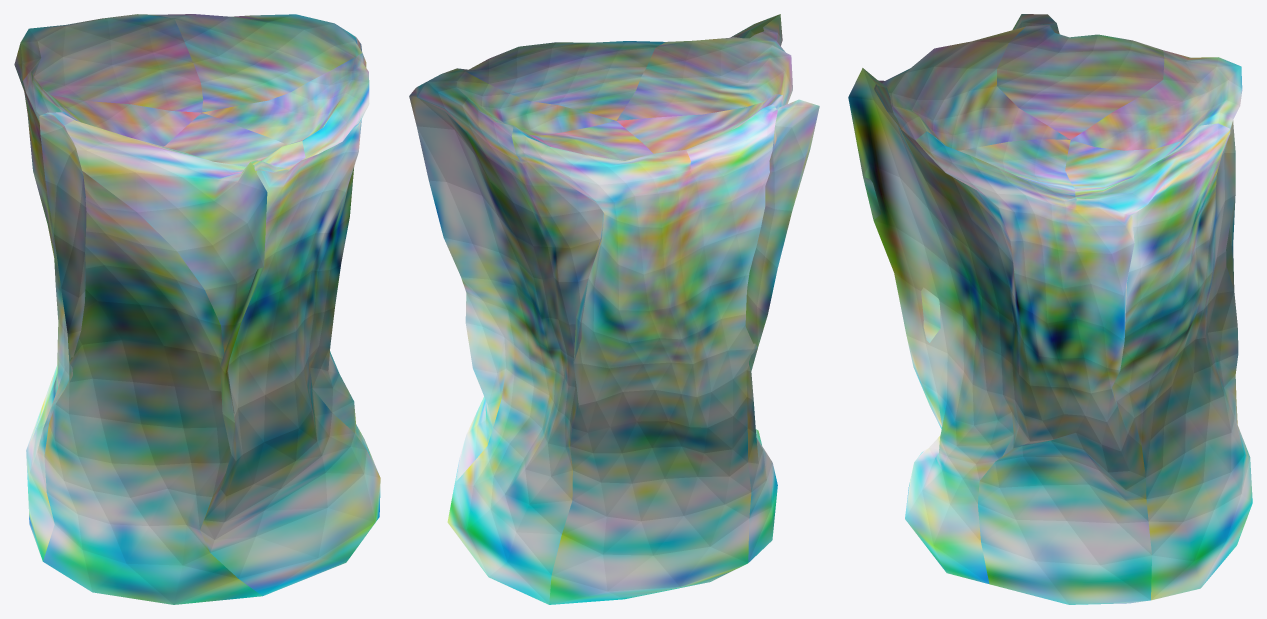
The picture shows the model from 3 angles, left to right: view 1: azimuth 30°, elevation 25°; view 2: azimuth 150°, elevation 25°; view 3: azimuth 270°, elevation 25°; orthographic projection. The views are drawn at different scales.
Parts seen in each view (by area): view 1: pMesh1; view 2: pMesh1; view 3: pMesh1.
Part boxes in pixels (bbox=[...]): pMesh1: bbox=[14, 14, 380, 604]; pMesh1: bbox=[409, 14, 819, 604]; pMesh1: bbox=[848, 14, 1252, 604].
Size of the model in its own units: 1.98 by 2.48 by 1.96.
Materials: 1 (1 with a texture image).
